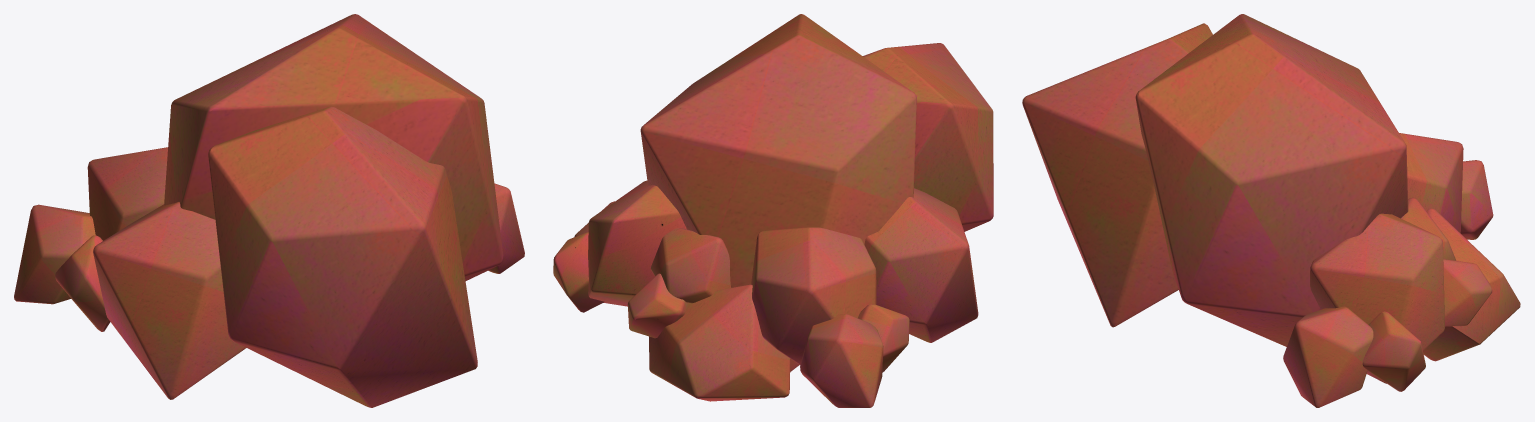
Rendered from TEMPLE_DECOR_ROCKS_002.obj.
3 renders of one model, left to right at view 1: azimuth 30°, elevation 25°; view 2: azimuth 150°, elevation 25°; view 3: azimuth 270°, elevation 25°, orthographic. The views are drawn at different scales.
Visible parts, largest first — view 1: TEMPLE_DECOR_ROCKS_002; view 2: TEMPLE_DECOR_ROCKS_002; view 3: TEMPLE_DECOR_ROCKS_002.
Boxes of the visible parts, box(x1,y1,x2,y2) form: TEMPLE_DECOR_ROCKS_002: box(14, 14, 524, 407); TEMPLE_DECOR_ROCKS_002: box(553, 14, 993, 407); TEMPLE_DECOR_ROCKS_002: box(1022, 14, 1520, 407).
Bounding box in the file's own units: 2.4 × 1.86 × 2.59.
